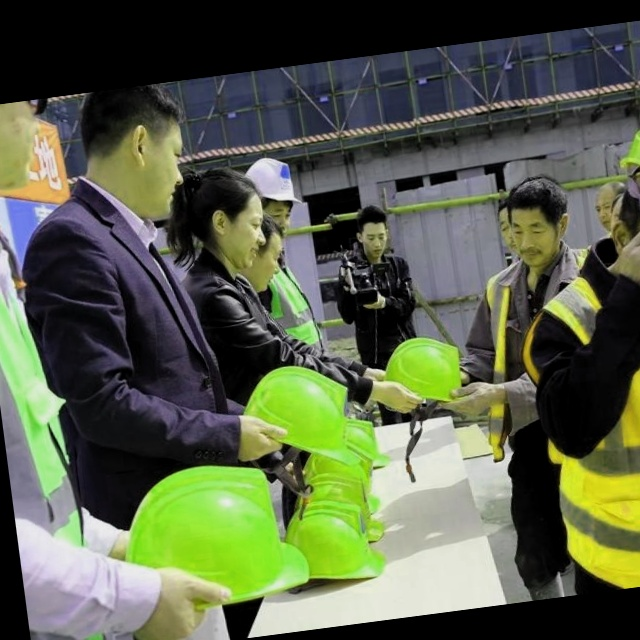Con_Casco: (229, 362, 356, 475), (383, 331, 469, 416)
Con_Chaleco: (526, 255, 640, 592)
Sin_Casco_Mascarrilla: (80, 81, 193, 223), (500, 175, 577, 268)
